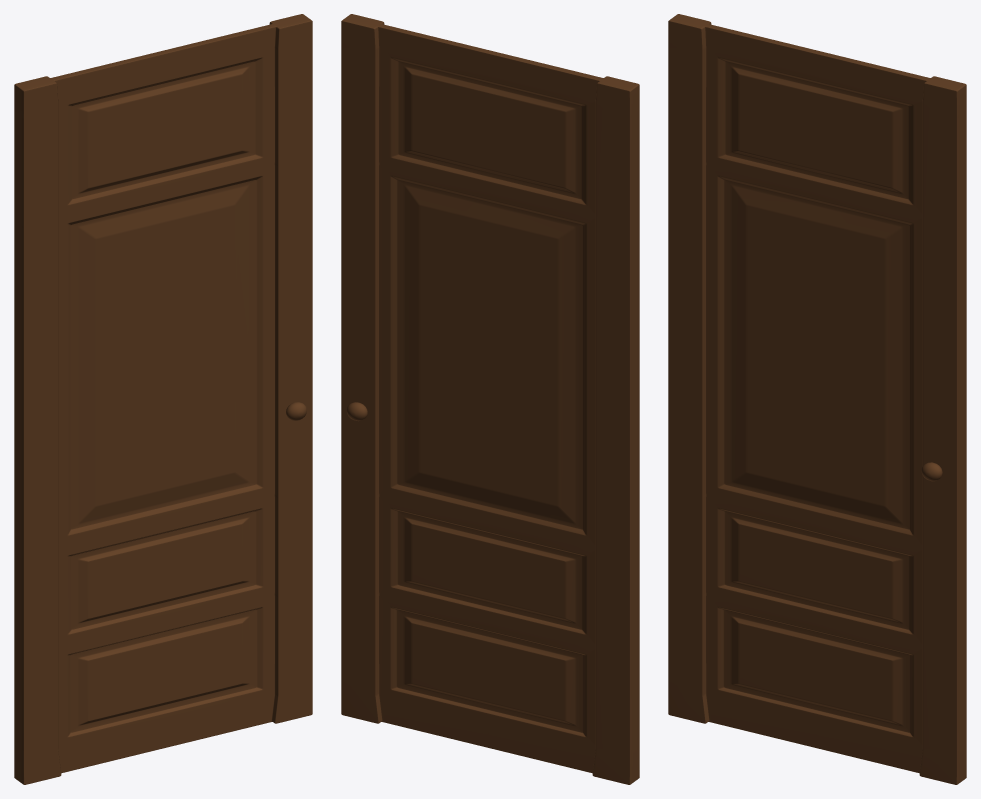
File: Door_V1.fbx
3 renders of one model, left to right at view 1: azimuth 30°, elevation 25°; view 2: azimuth 150°, elevation 25°; view 3: azimuth 330°, elevation 25°, orthographic.
Parts seen in each view (by area): view 1: Single_Door; view 2: Single_Door; view 3: Single_Door.
Part boxes in pixels (left/top/right/bottom): Single_Door: left=14, top=14, right=312, bottom=784; Single_Door: left=341, top=14, right=639, bottom=784; Single_Door: left=668, top=14, right=966, bottom=784.
Size of the model in its own units: 0.7361 by 1.69 by 0.1192.
